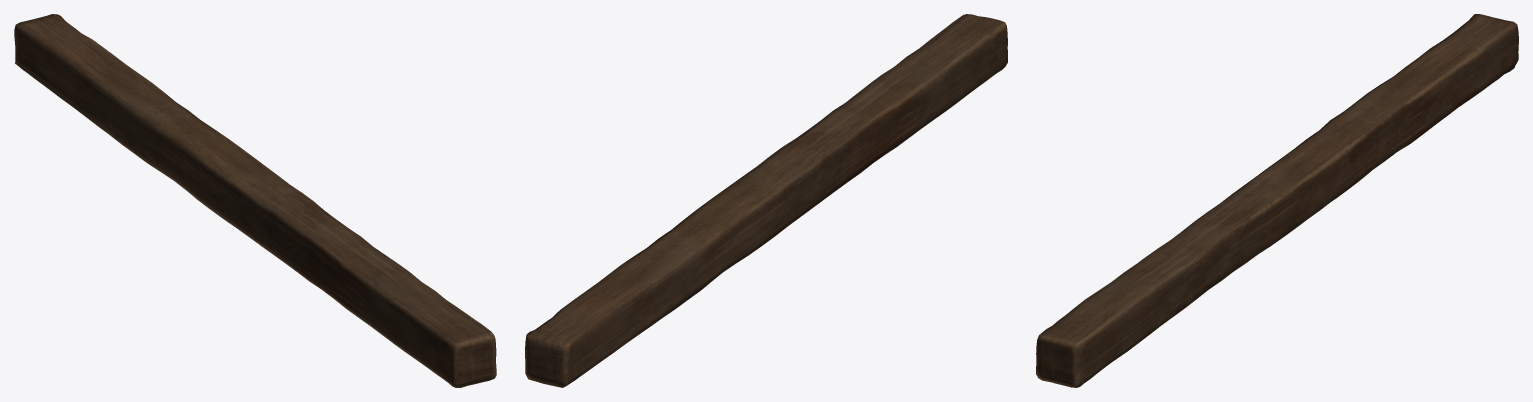
File: plank.glb
The picture shows the model from 3 angles, left to right: view 1: azimuth 30°, elevation 25°; view 2: azimuth 150°, elevation 25°; view 3: azimuth 330°, elevation 25°; orthographic projection.
Visible parts, largest first — view 1: SM_Wooden_Plank_Vol_01_01; view 2: SM_Wooden_Plank_Vol_01_01; view 3: SM_Wooden_Plank_Vol_01_01.
Part boxes in pixels (box(x1,y1,x2,y2)): SM_Wooden_Plank_Vol_01_01: box(14, 14, 496, 387); SM_Wooden_Plank_Vol_01_01: box(525, 14, 1007, 387); SM_Wooden_Plank_Vol_01_01: box(1036, 14, 1518, 387).
Bounding box in the file's own units: 0.2022 × 0.2021 × 3.51.
Materials: 1 (1 with a texture image).
